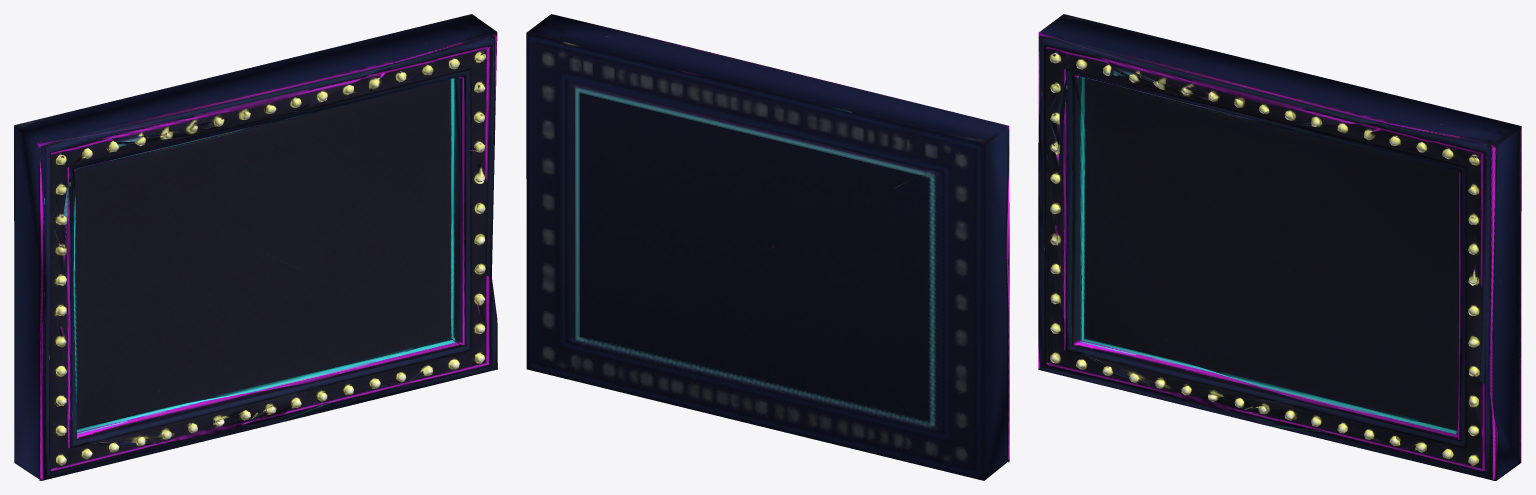
Rendered from pared-records.glb.
3 views of the same model, side by side, from view 1: azimuth 30°, elevation 25°; view 2: azimuth 150°, elevation 25°; view 3: azimuth 330°, elevation 25° (orthographic).
Size of the model in its own units: 2 by 1.41 by 0.233.
Materials: 1 (1 with a texture image).
